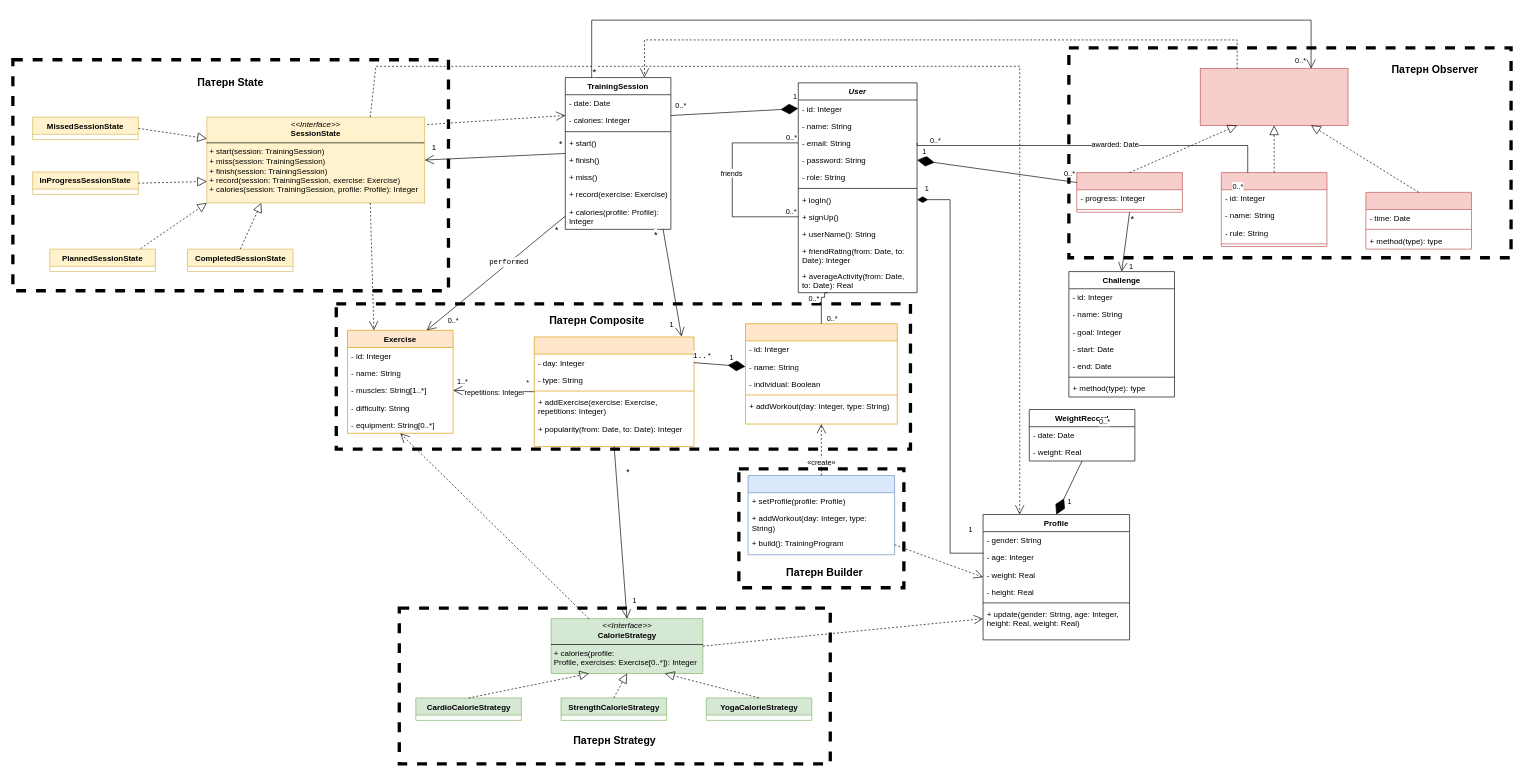
Image size: 1524x777. Some labels were removed from this diagram. Each missing label, with the box of its shape:
<<Interface>> SessionObserver + finished(session: TrainingSession): (1200, 68, 1348, 125)
Achievement: (1221, 172, 1327, 247)
ChallengeProgress: (1076, 172, 1182, 212)
IndividualProgramBuilder: (747, 475, 895, 555)
Reminder: (1365, 192, 1471, 249)
TrainingProgram: (745, 323, 897, 424)
Workout: (534, 336, 694, 446)
